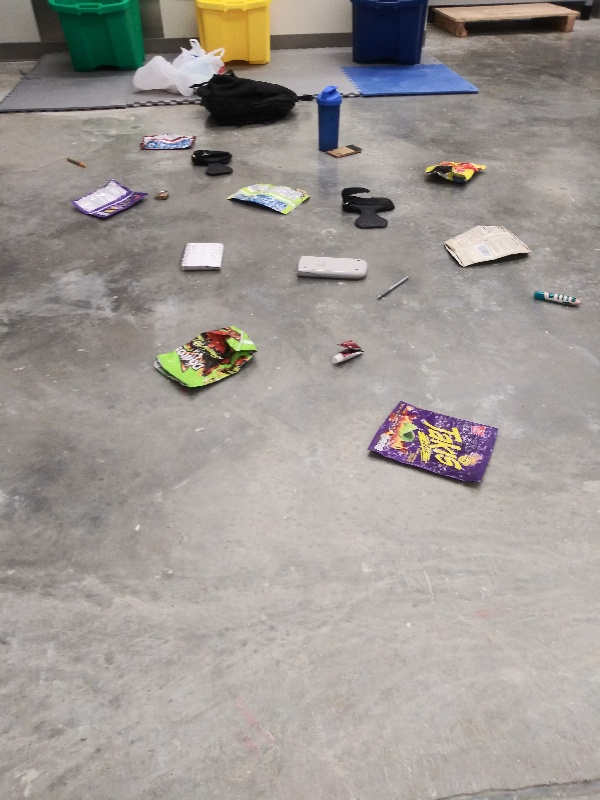bag: (362, 397, 499, 494), (151, 321, 265, 397), (440, 220, 538, 272), (67, 175, 154, 227), (223, 180, 316, 219), (418, 157, 494, 188), (137, 127, 201, 152)
